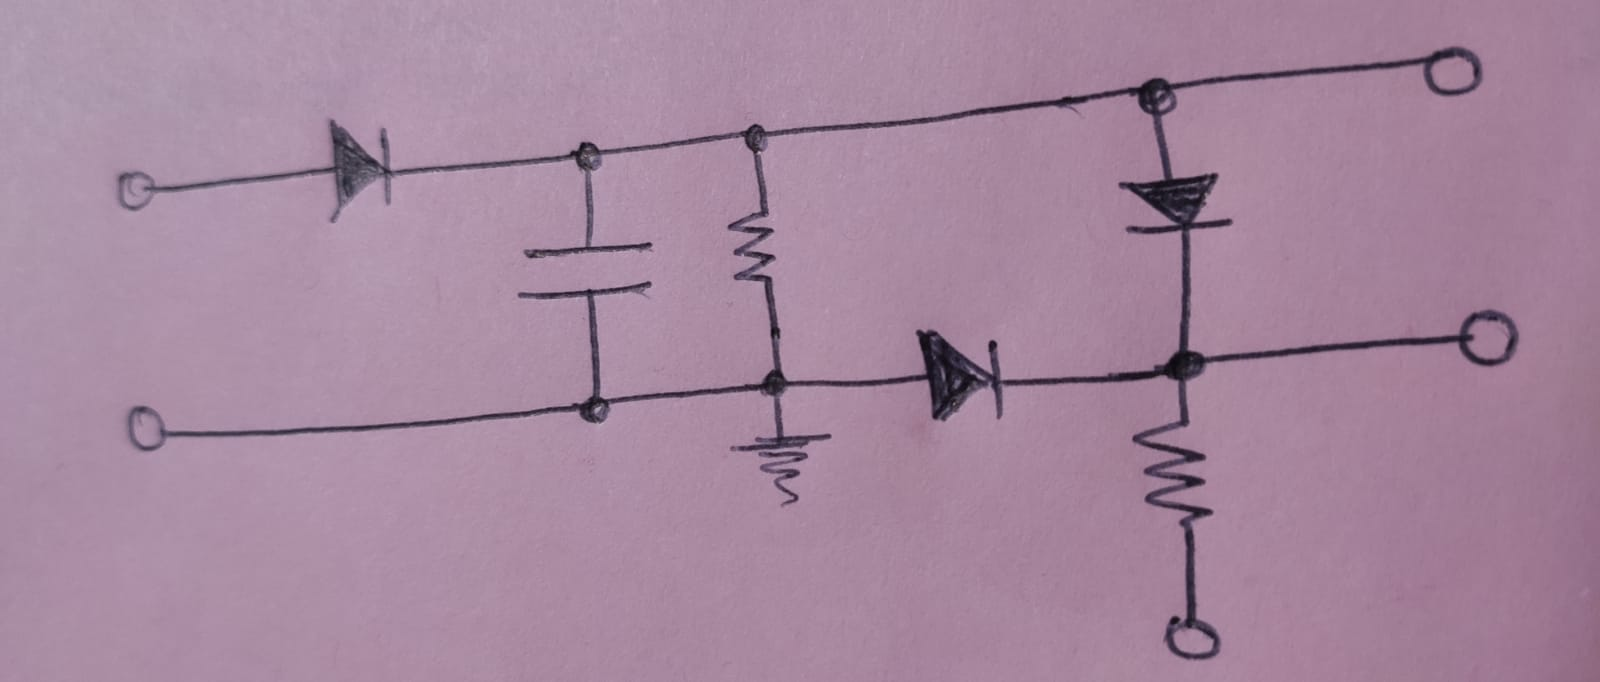capacitor.unpolarized: (524, 237, 649, 305)
diode: (916, 329, 1008, 423), (1117, 167, 1235, 239), (321, 114, 402, 213)
gnd: (727, 427, 834, 506)
junction: (1157, 339, 1220, 389), (1132, 72, 1190, 121), (560, 135, 612, 175), (754, 366, 798, 403), (735, 120, 778, 158), (576, 391, 617, 427)
resistor: (1130, 413, 1214, 527), (724, 205, 783, 295)
terminal: (1415, 38, 1487, 102), (1445, 304, 1517, 368), (1157, 608, 1234, 667), (110, 165, 161, 218), (120, 400, 171, 453)
